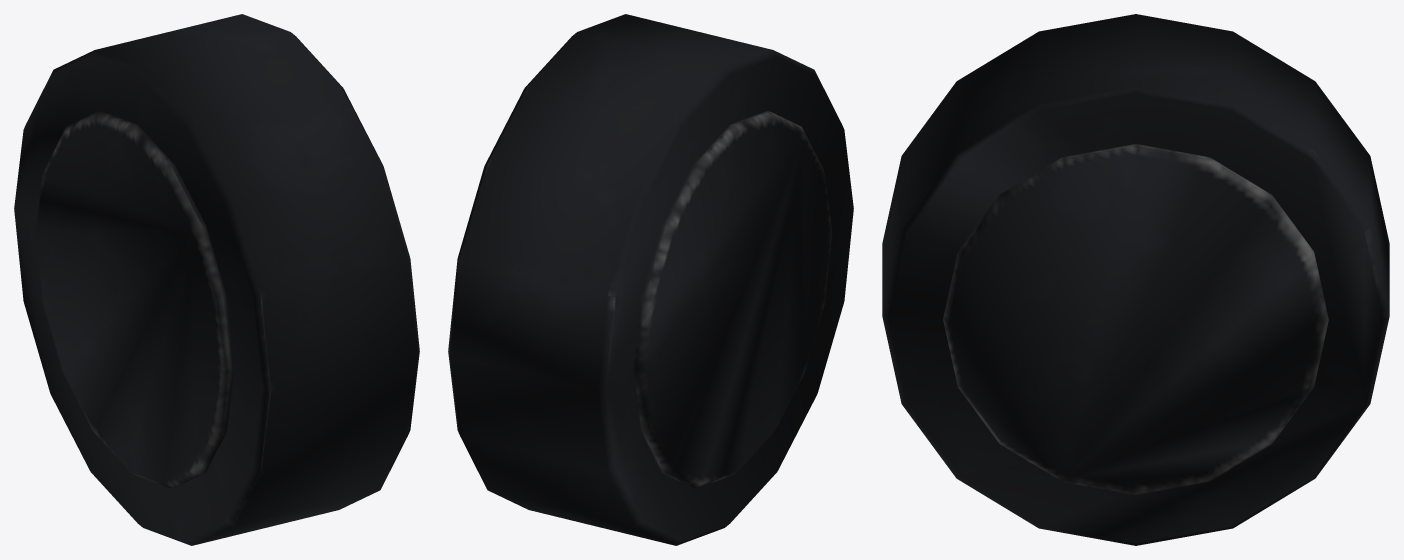
Rendered from Civil_Rueda.fbx.
3 views of the same model, side by side, from view 1: azimuth 30°, elevation 25°; view 2: azimuth 150°, elevation 25°; view 3: azimuth 270°, elevation 25° (orthographic).
Parts seen in each view (by area): view 1: Civil_Rueda; view 2: Civil_Rueda; view 3: Civil_Rueda.
Boxes of the visible parts, x1,y1,x2,y2 form: Civil_Rueda: (14,14,419,545); Civil_Rueda: (448,14,853,545); Civil_Rueda: (882,14,1389,545).
Size of the model in its own units: 1 by 2.5 by 2.5.
